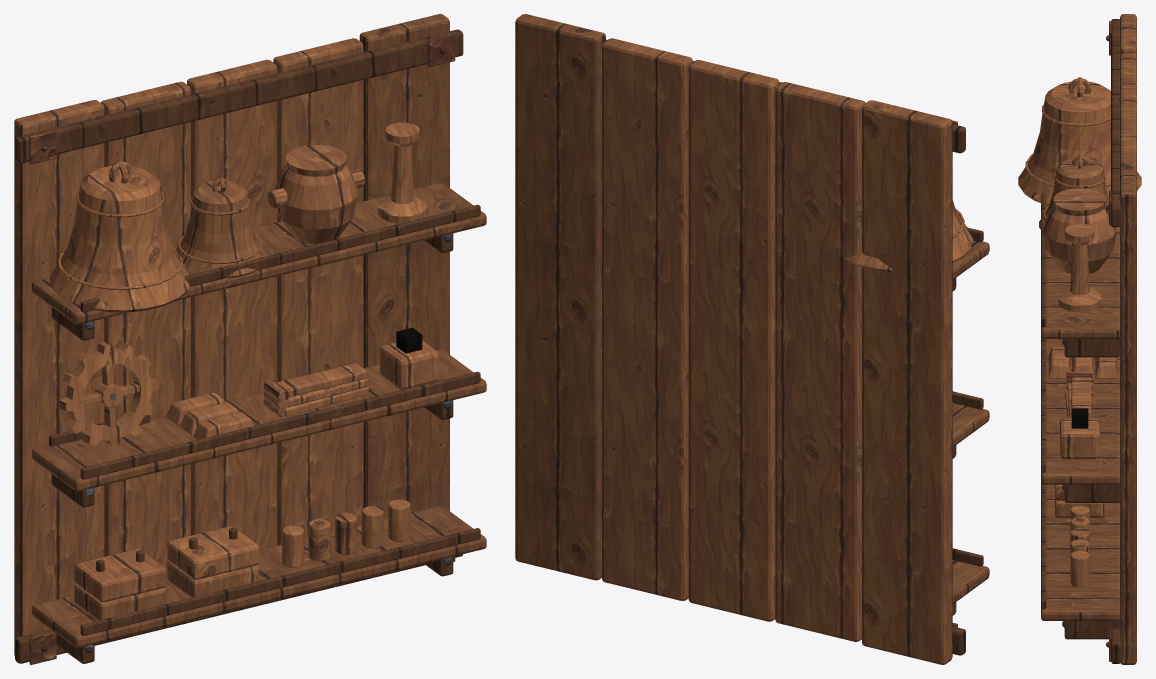
Rendered from cf_pattern_shelf.glb.
The picture shows the model from 3 angles, left to right: view 1: azimuth 30°, elevation 25°; view 2: azimuth 150°, elevation 25°; view 3: azimuth 270°, elevation 25°; orthographic projection. The views are drawn at different scales.
Parts seen in each view (by area): view 1: model; view 2: model; view 3: model.
Part boxes in pixels (x1=…): model: x1=14, y1=14, x2=486, y2=664; model: x1=515, y1=14, x2=989, y2=664; model: x1=1018, y1=14, x2=1141, y2=664.
Bounding box in the file's own units: 1.34 × 1.56 × 0.3682.
9 materials, 7 textured.
